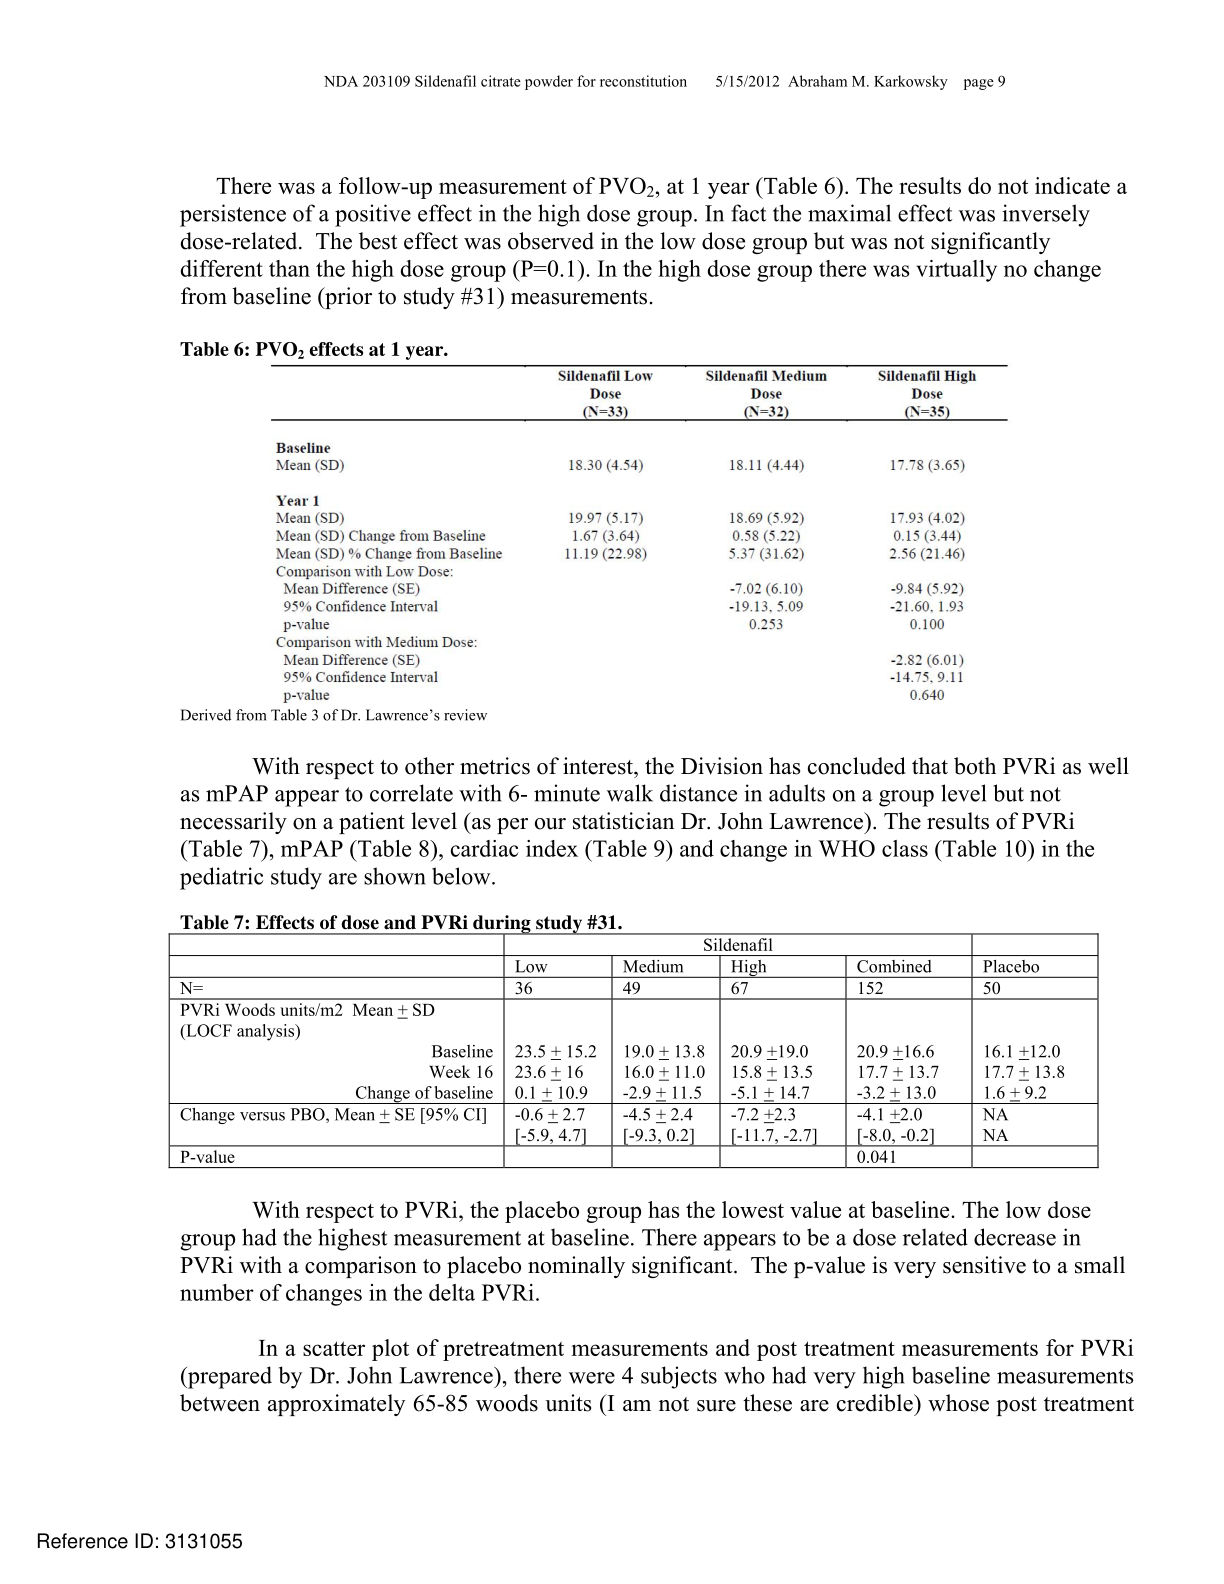merged_cells: (168, 932, 1101, 1170)
partial_lined: (271, 363, 1004, 703)
